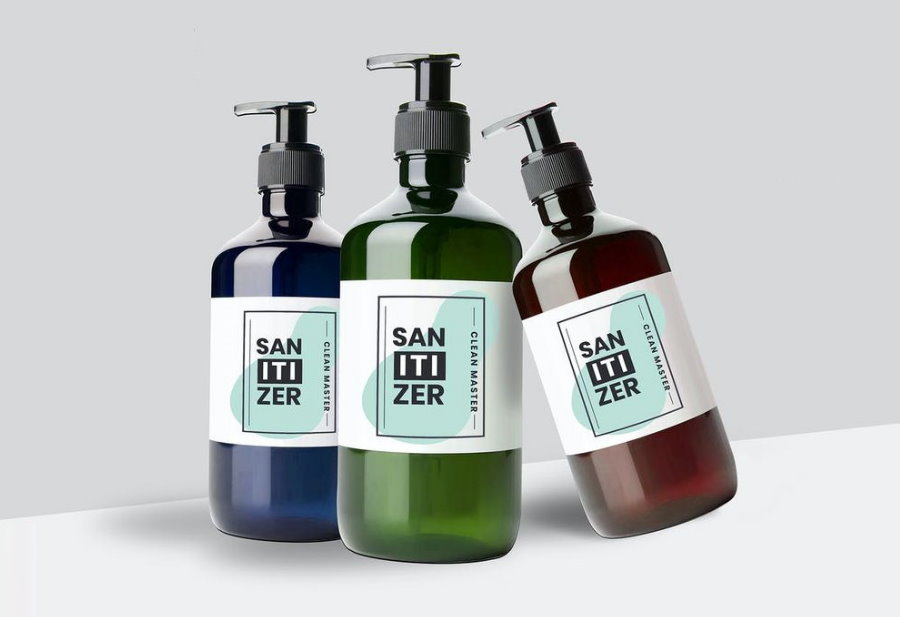Medicine: (483, 92, 745, 538), (333, 45, 530, 573), (198, 90, 338, 545)
